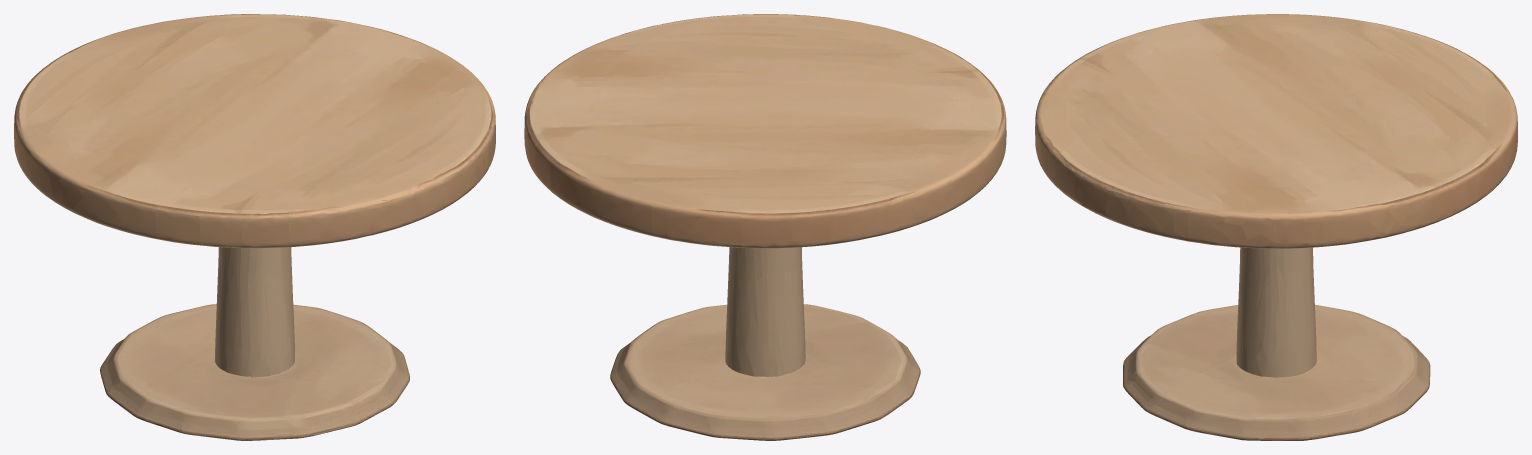
The model's file is table_round.glb.
3 renders of one model, left to right at view 1: azimuth 30°, elevation 25°; view 2: azimuth 150°, elevation 25°; view 3: azimuth 270°, elevation 25°, orthographic.
Size of the model in its own units: 1.9 by 1.16 by 1.9.
1 material, 1 textured.
